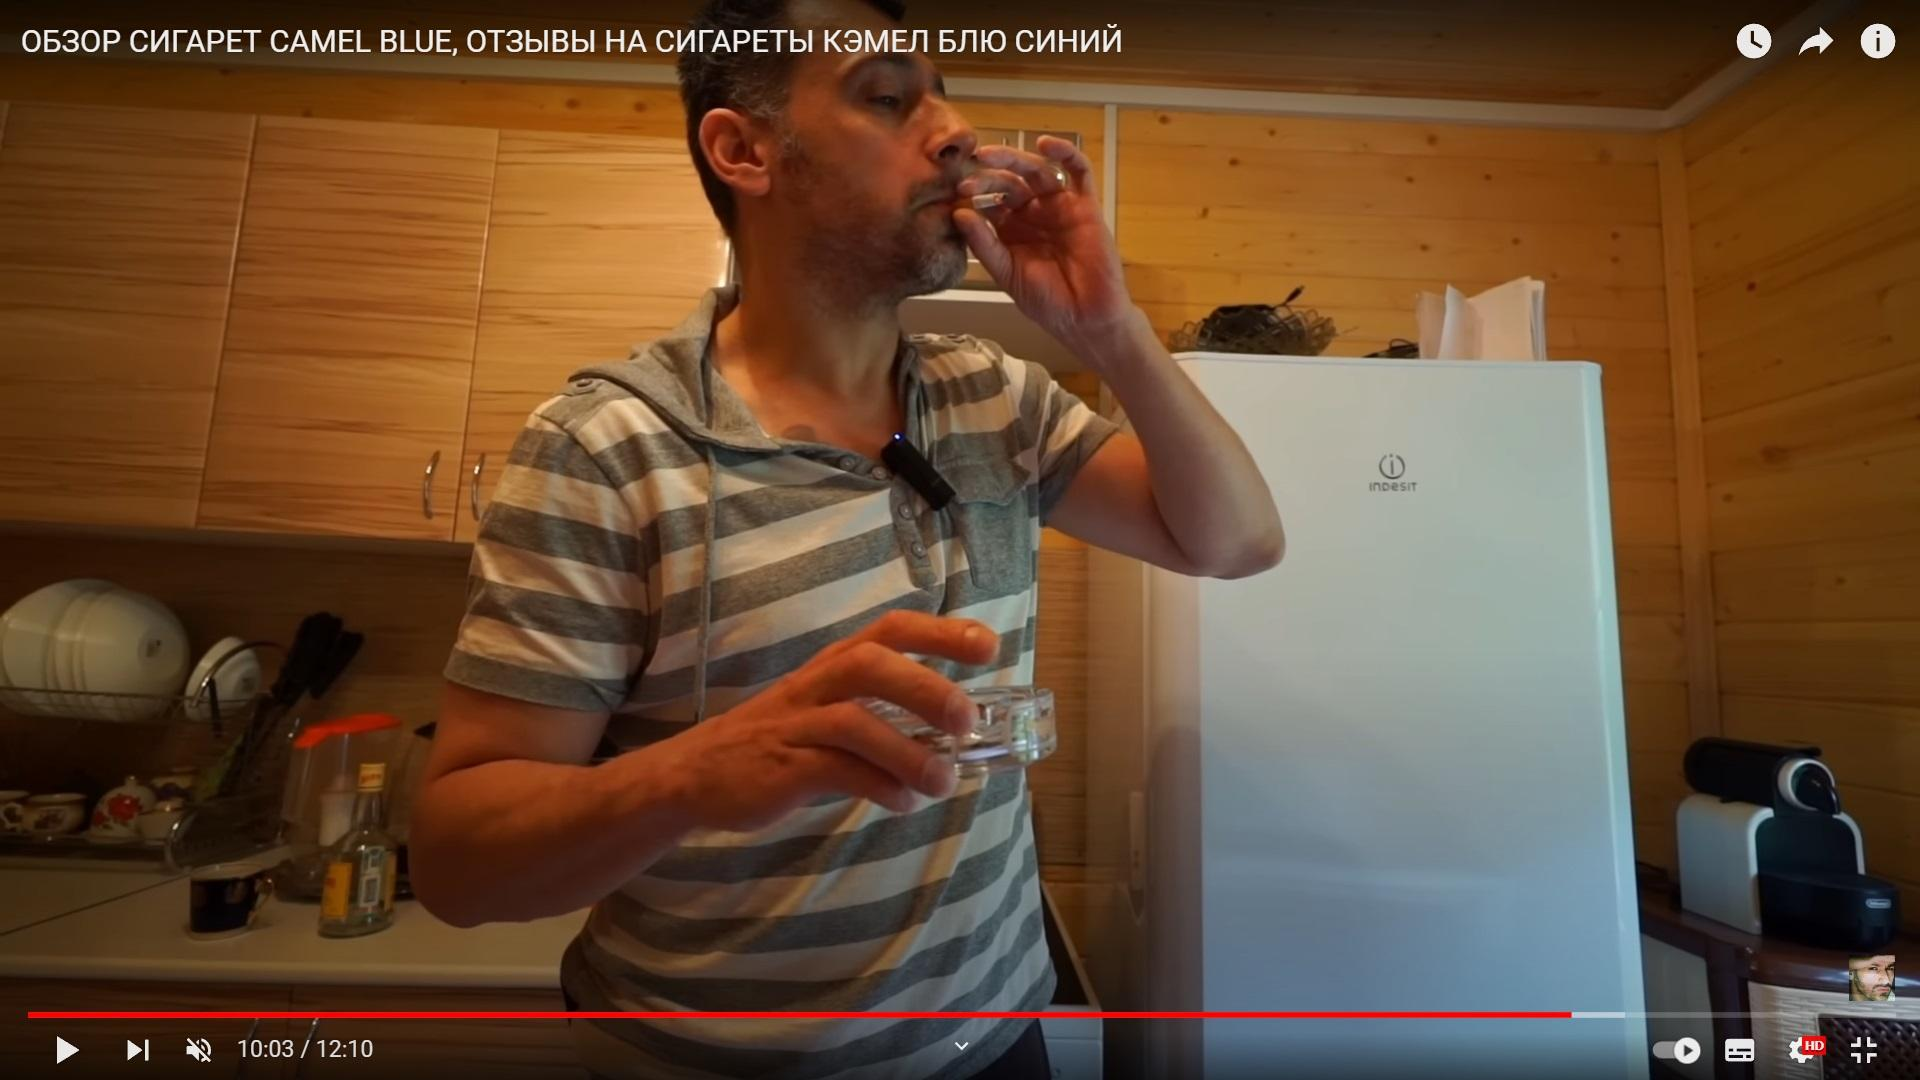cigarette: (948, 193, 1010, 210)
